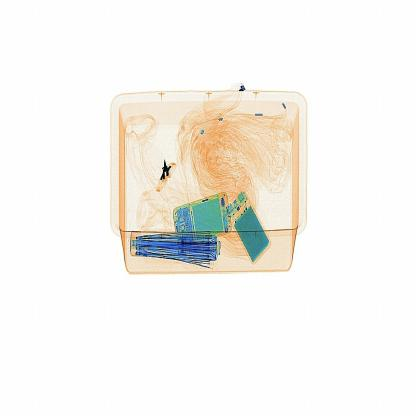gun: (153, 146, 186, 196)
